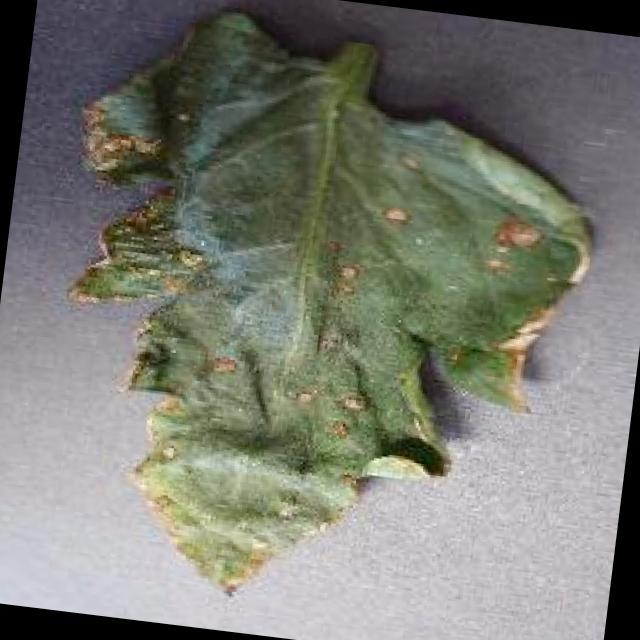Tomato bacterial spot leaf: (15, 0, 619, 636)
